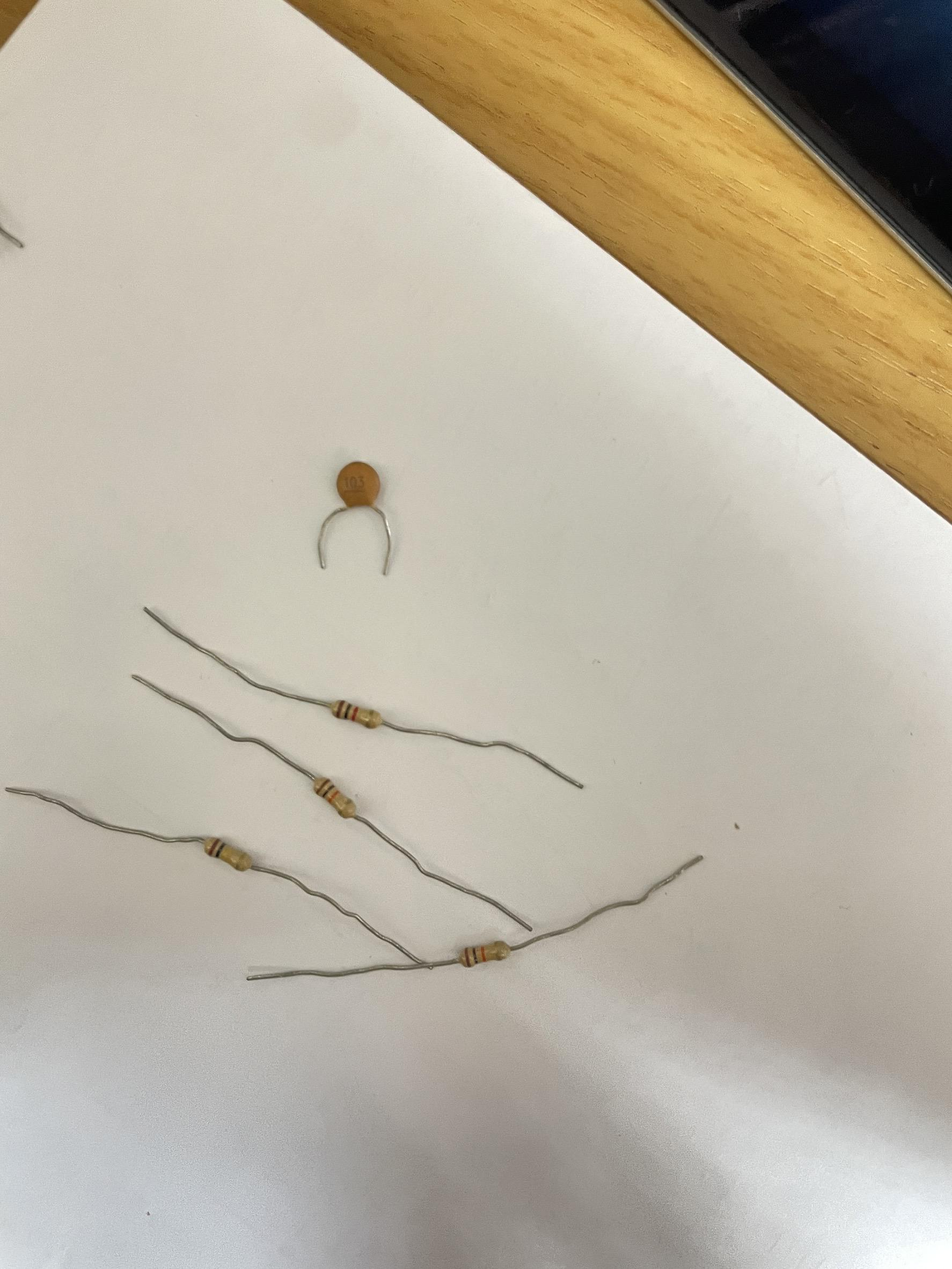resistor: (204, 832, 255, 876), (312, 774, 356, 819), (332, 701, 383, 731), (458, 939, 511, 967)
